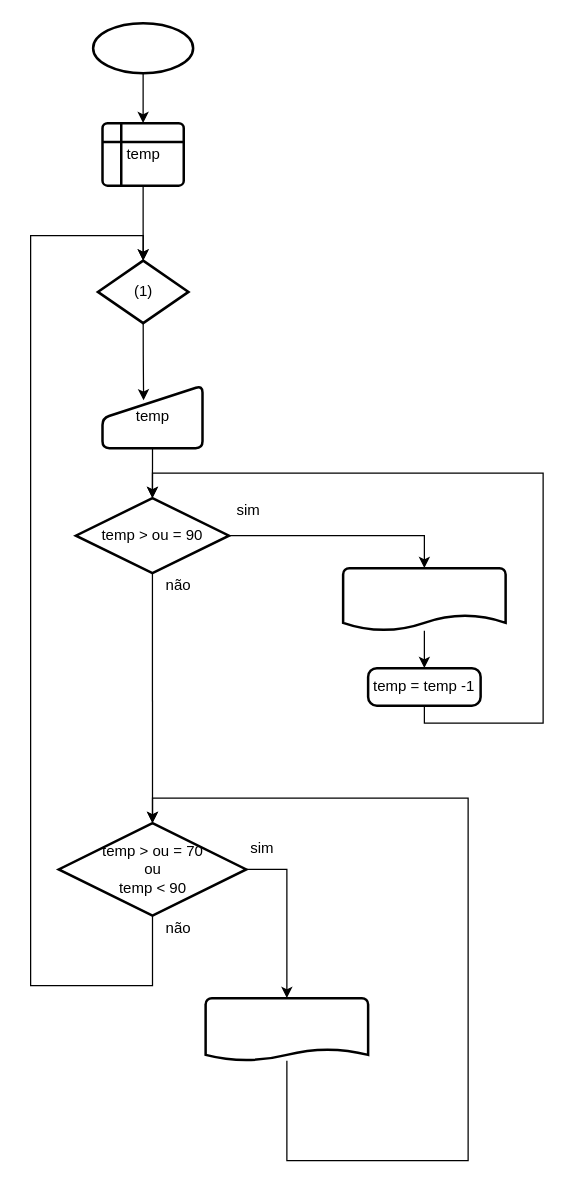
The diagram is 575 pixels wide and 1193 high, and some of its shapes have lost their labels. Here are the shapes that lost their labels. From the top down, the centre of each, then its label:
At point 142,47: "início".
At point 423,598: "Ventoinha Ligada! temp".
At point 286,1028: "temp Ventoinha Desligada!".
